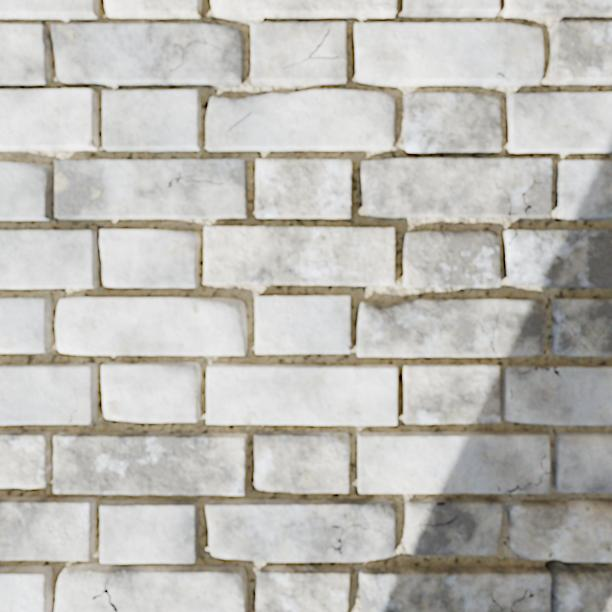brick: (54, 432, 246, 494), (355, 23, 543, 85), (52, 24, 243, 85), (206, 499, 394, 560), (358, 432, 549, 492), (55, 159, 246, 218), (207, 90, 394, 150), (207, 365, 396, 424), (361, 158, 551, 216), (204, 227, 394, 284), (56, 297, 245, 354), (357, 299, 544, 355), (55, 564, 246, 611), (360, 567, 549, 611), (502, 365, 611, 424), (507, 92, 611, 153), (504, 230, 611, 286), (101, 500, 197, 562), (0, 497, 95, 559), (251, 22, 345, 84), (0, 89, 97, 149), (103, 90, 200, 150), (405, 93, 501, 153), (0, 364, 96, 423), (255, 431, 349, 491), (102, 363, 199, 421), (0, 230, 98, 287), (403, 364, 499, 422), (256, 159, 351, 217), (100, 230, 198, 286), (405, 498, 501, 554), (403, 231, 499, 286), (256, 296, 350, 352), (256, 566, 348, 611), (550, 22, 611, 83), (211, 0, 396, 19), (553, 433, 611, 492), (552, 299, 611, 355), (556, 161, 611, 218), (0, 24, 50, 86), (0, 162, 53, 219), (0, 432, 51, 487), (0, 298, 51, 351), (552, 566, 611, 611), (0, 566, 51, 611), (0, 0, 98, 19), (503, 0, 611, 17), (105, 0, 200, 18), (403, 0, 498, 16), (515, 476, 549, 492)
broken_brick: (506, 499, 611, 560)
crack: (544, 558, 611, 611), (505, 452, 550, 493), (476, 305, 501, 356), (521, 172, 542, 217), (90, 578, 118, 611), (493, 178, 517, 216), (510, 587, 537, 611), (520, 365, 561, 377), (489, 590, 503, 611), (68, 399, 78, 423), (508, 229, 518, 247), (375, 2, 395, 8), (345, 343, 351, 350), (532, 229, 537, 234), (88, 419, 93, 424)
